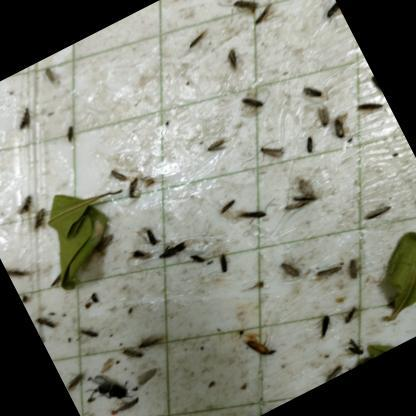prays_oleae: (250, 126, 306, 181), (270, 169, 324, 226), (236, 320, 284, 374), (301, 306, 346, 355), (54, 355, 94, 404), (292, 69, 332, 113), (310, 246, 351, 287), (236, 82, 274, 126), (174, 20, 216, 59), (269, 244, 306, 288), (128, 318, 166, 359), (4, 95, 42, 134), (358, 196, 394, 234), (233, 196, 270, 232), (311, 0, 348, 35), (221, 40, 253, 78), (155, 238, 192, 268), (0, 249, 31, 284), (131, 358, 162, 392), (352, 94, 385, 125), (336, 296, 366, 329), (224, 0, 261, 26), (125, 240, 155, 271), (199, 128, 228, 160), (208, 246, 235, 279), (340, 249, 368, 280), (70, 316, 98, 345), (31, 306, 58, 336), (326, 110, 352, 141), (10, 188, 40, 214), (212, 188, 240, 214), (309, 102, 333, 132), (298, 130, 322, 160), (27, 204, 52, 232), (118, 338, 144, 363), (104, 162, 128, 188), (122, 174, 147, 198), (57, 117, 78, 142), (141, 224, 162, 247), (185, 250, 205, 271)
